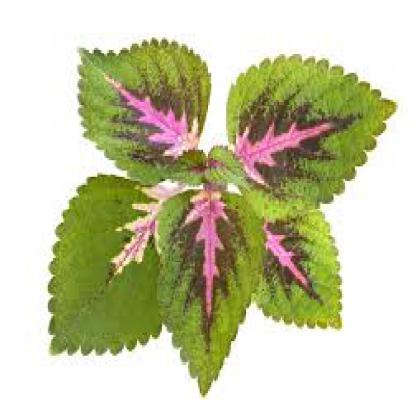Bunga Coleus: (49, 14, 374, 374)
